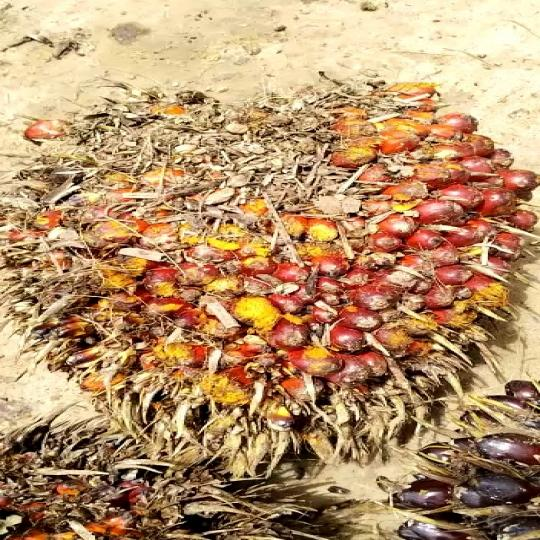masak: (16, 73, 540, 456)
